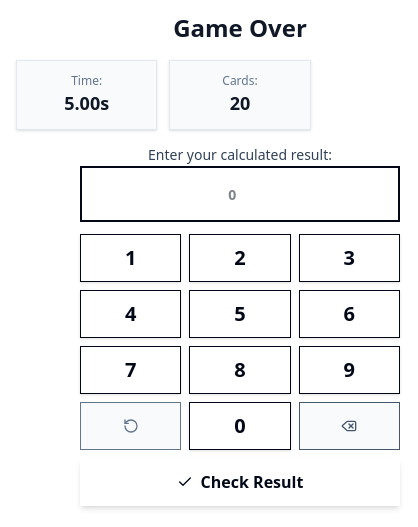
Test: GameOverScreen › shows incorrect message and zero score when user enters wrong answer
Type "100" into the number field labelled "Enter your calculated result:" at (240, 194), box [80,166,400,222]
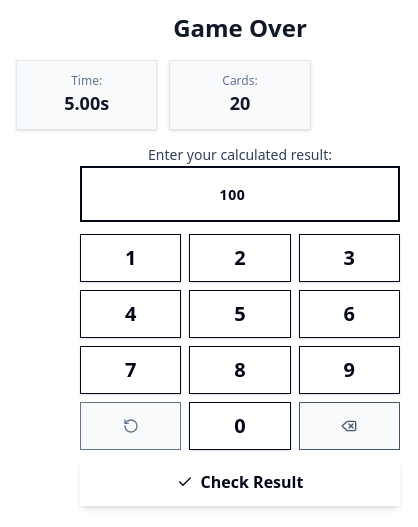
Click the button "Check Result" at (240, 482), box [80,458,400,506]
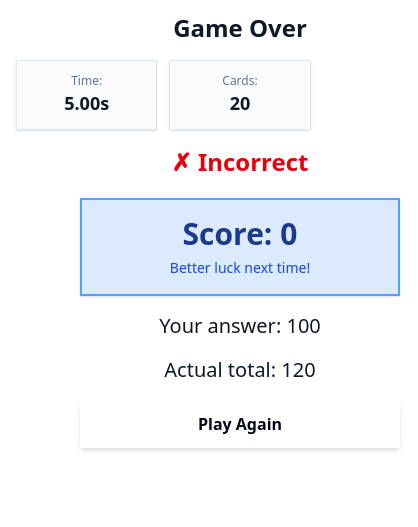
Expected: the text "✗ Incorrect" is shown, [172,145,308,178]
Expected: the text "Score: 0" is shown, [183,213,297,254]
Expected: the text "Your answer: 100" is shown, [159,312,321,339]
